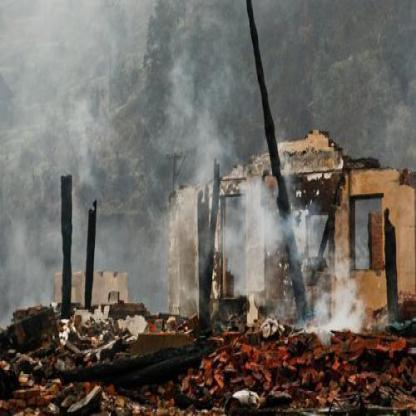smoke: (213, 151, 295, 303), (163, 26, 225, 181), (300, 206, 368, 341)
